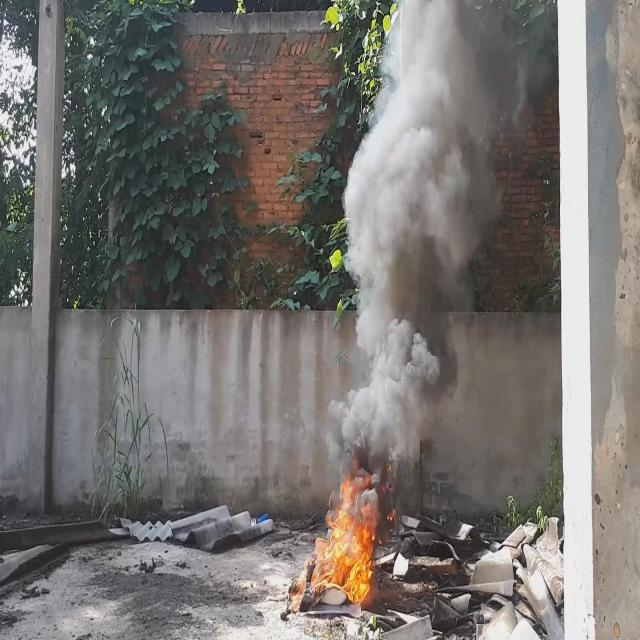Fire: (312, 464, 380, 606)
Smoke: (340, 0, 526, 479)
